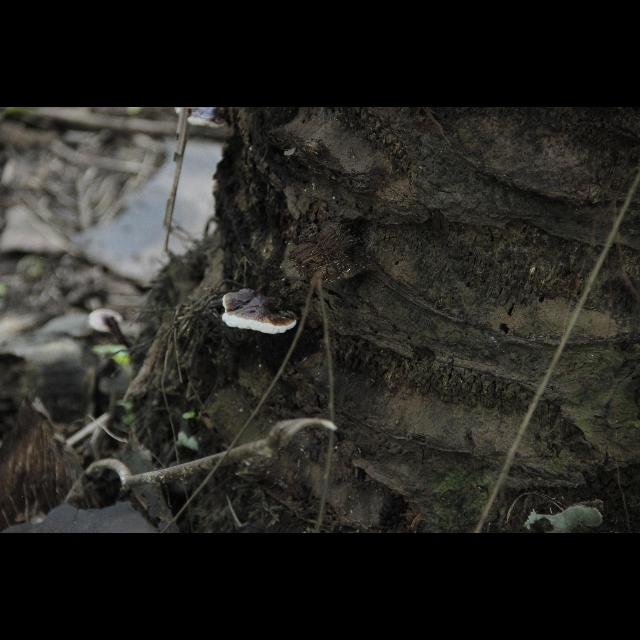ganoderma: (223, 289, 300, 336), (175, 109, 229, 130), (89, 310, 126, 337)
